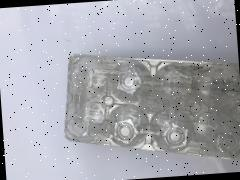plastic: (53, 30, 240, 180)
